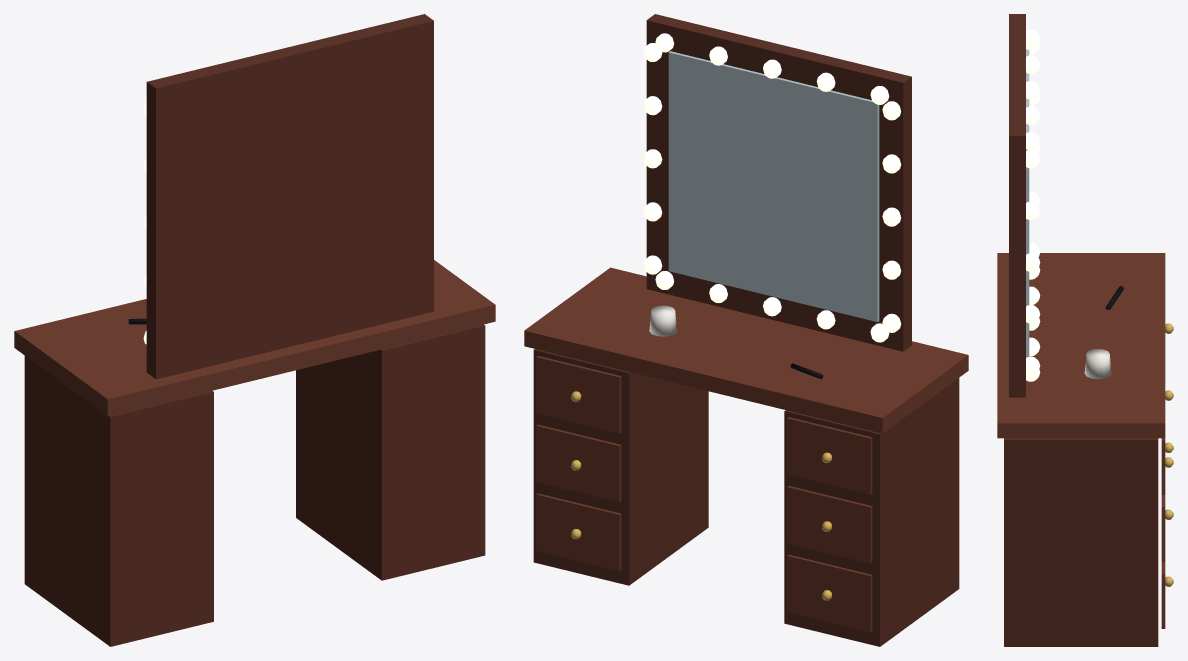
File: SM_PRP_Penteadeira.fbx
3 views of the same model, side by side, from view 1: azimuth 30°, elevation 25°; view 2: azimuth 150°, elevation 25°; view 3: azimuth 270°, elevation 25° (orthographic). The views are drawn at different scales.
Visible parts, largest first — view 1: SM_PRP_Penteadeira; view 2: SM_PRP_Penteadeira; view 3: SM_PRP_Penteadeira.
Part boxes in pixels (box(x1,y1,x2,y2)): SM_PRP_Penteadeira: box(14, 14, 495, 646); SM_PRP_Penteadeira: box(524, 14, 968, 646); SM_PRP_Penteadeira: box(997, 14, 1173, 646).
Size of the model in its own units: 1.2 by 1.61 by 0.5252.
